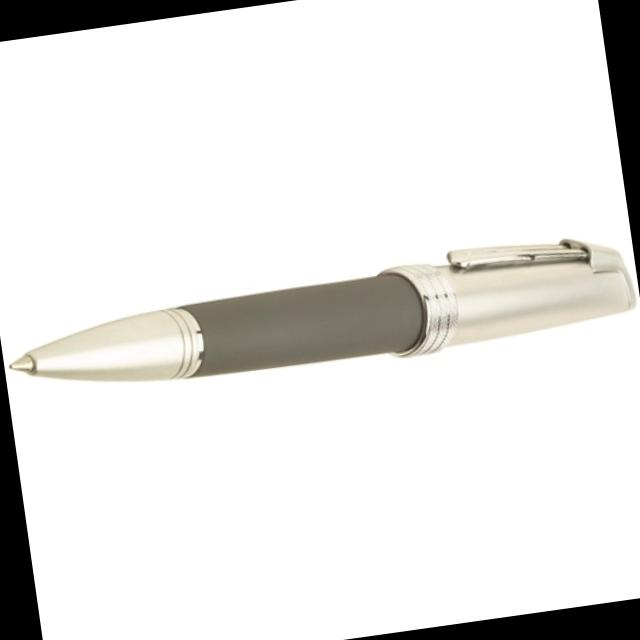pen: (1, 224, 640, 410)
